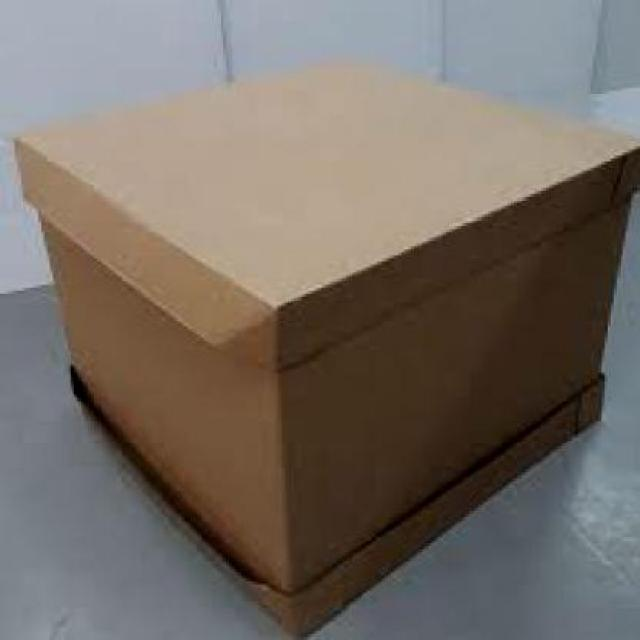box: (5, 52, 638, 637)
